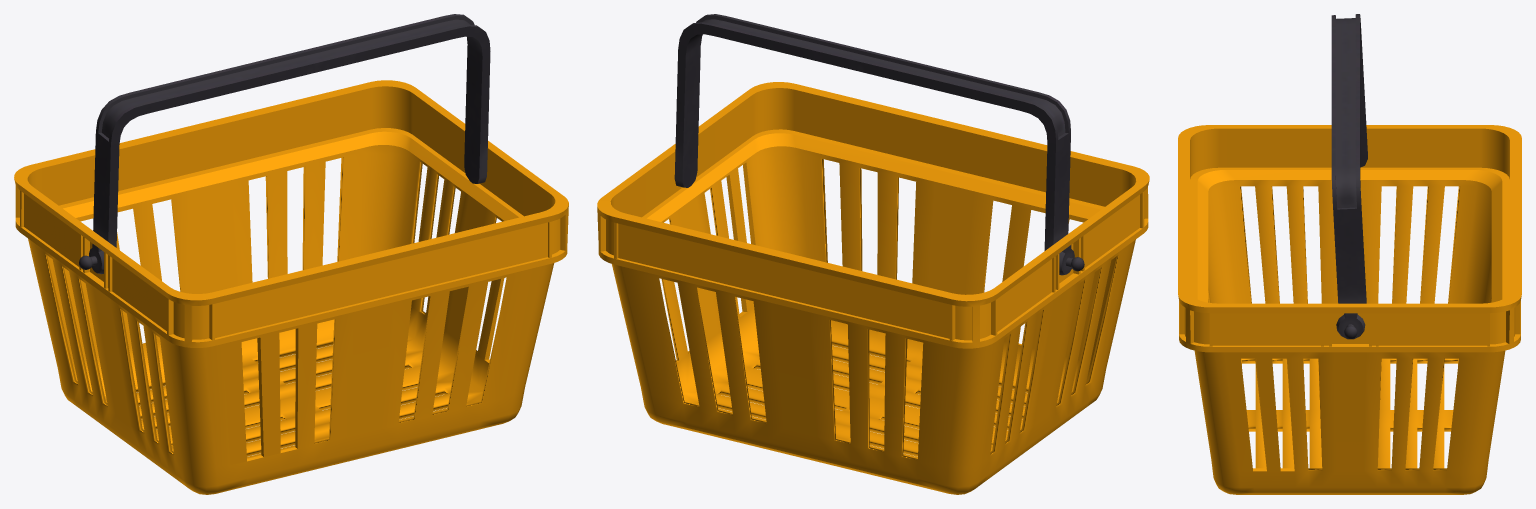
Rendered from cart.fbx.
3 renders of one model, left to right at view 1: azimuth 30°, elevation 25°; view 2: azimuth 150°, elevation 25°; view 3: azimuth 270°, elevation 25°, orthographic. The views are drawn at different scales.
Visible parts, largest first — view 1: Cart, Handle; view 2: Cart, Handle; view 3: Cart, Handle.
Part boxes in pixels (x1,y1,x2,y2): Cart: (14,80,568,494); Handle: (93,14,490,247); Cart: (597,82,1149,494); Handle: (674,14,1070,250); Cart: (1178,125,1521,494); Handle: (1331,14,1367,303).
Size of the model in its own units: 431 by 343 by 322.
Materials: 1 (1 with a texture image).
